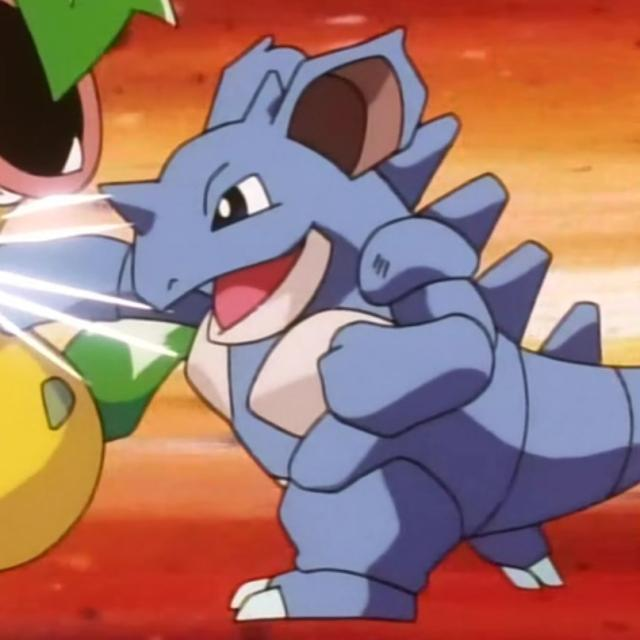Nidoqueen: (134, 34, 640, 640)
